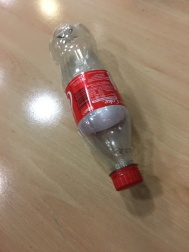bottle_red: (41, 19, 162, 205)
